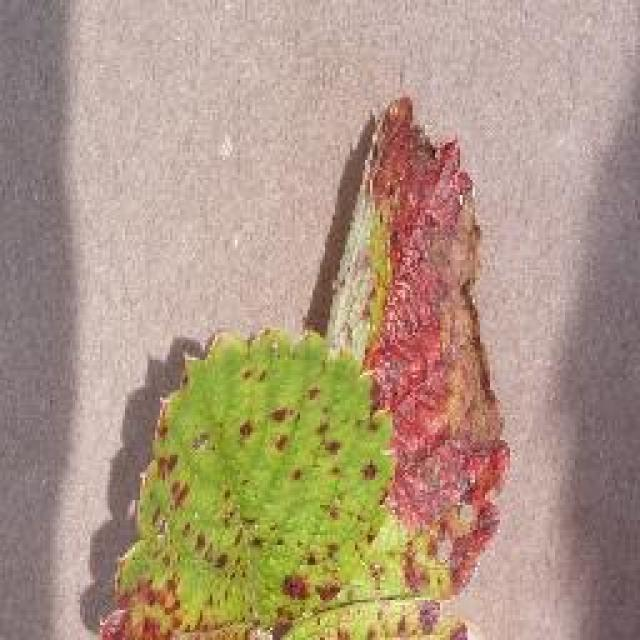Strawberry leaf scorch: (367, 187, 463, 568)
